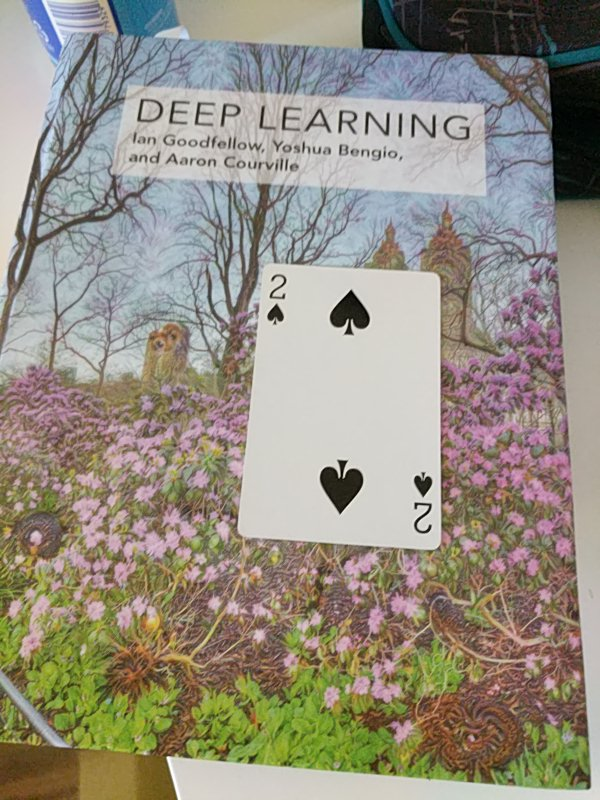Spades: (237, 263, 446, 549)
